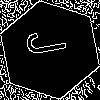J: (25, 25, 77, 59)
